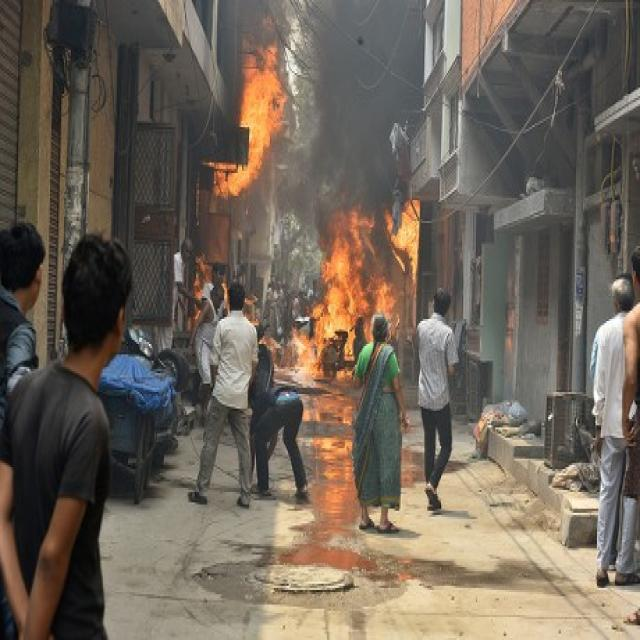fire: (292, 203, 396, 389), (200, 43, 288, 201), (383, 199, 421, 301)
